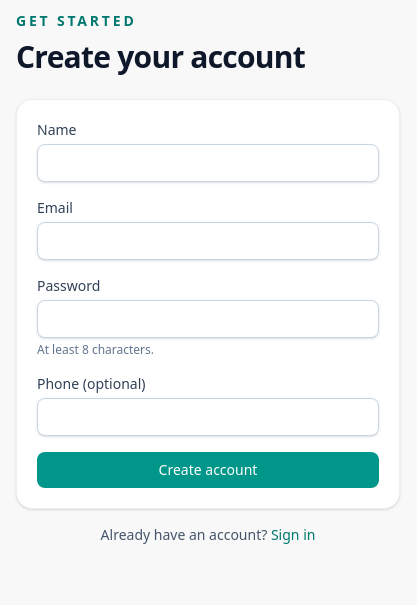
RegisterPage › shows the API error message as sent
Step 1. Type "Rina" into the field labelled "Name" → (208, 163), box left=37, top=144, right=379, bottom=182
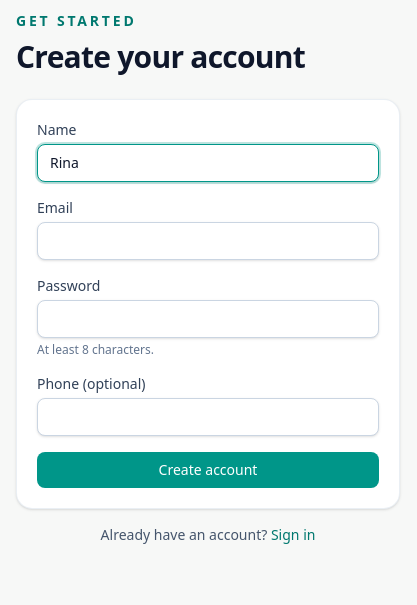
Step 2. Type "rina@e.com" into the field labelled "Email" → (208, 241), box left=37, top=222, right=379, bottom=260
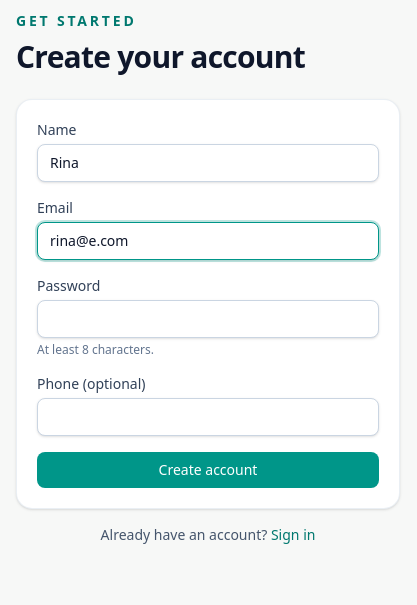
Step 3. Type "CorrectHorse9" into the password field labelled "Password" → (208, 319), box left=37, top=300, right=379, bottom=338
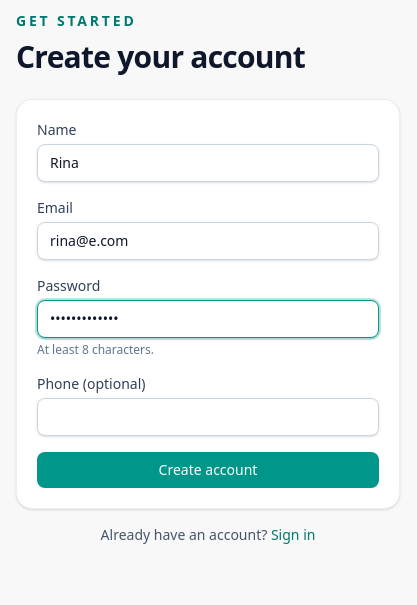
Step 4. Click the button "Create account" → (208, 470), box left=37, top=452, right=379, bottom=488
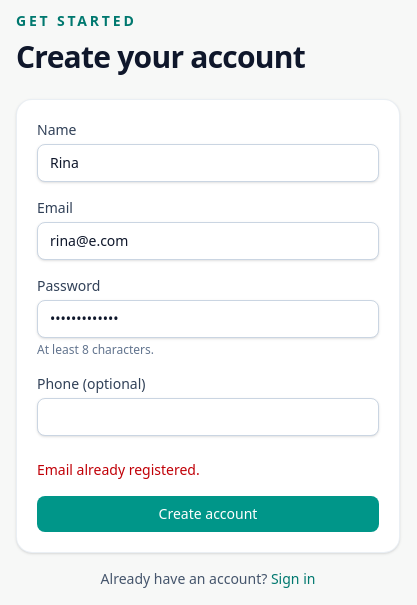
Now the text "Email already registered." is shown, box left=37, top=460, right=200, bottom=479
